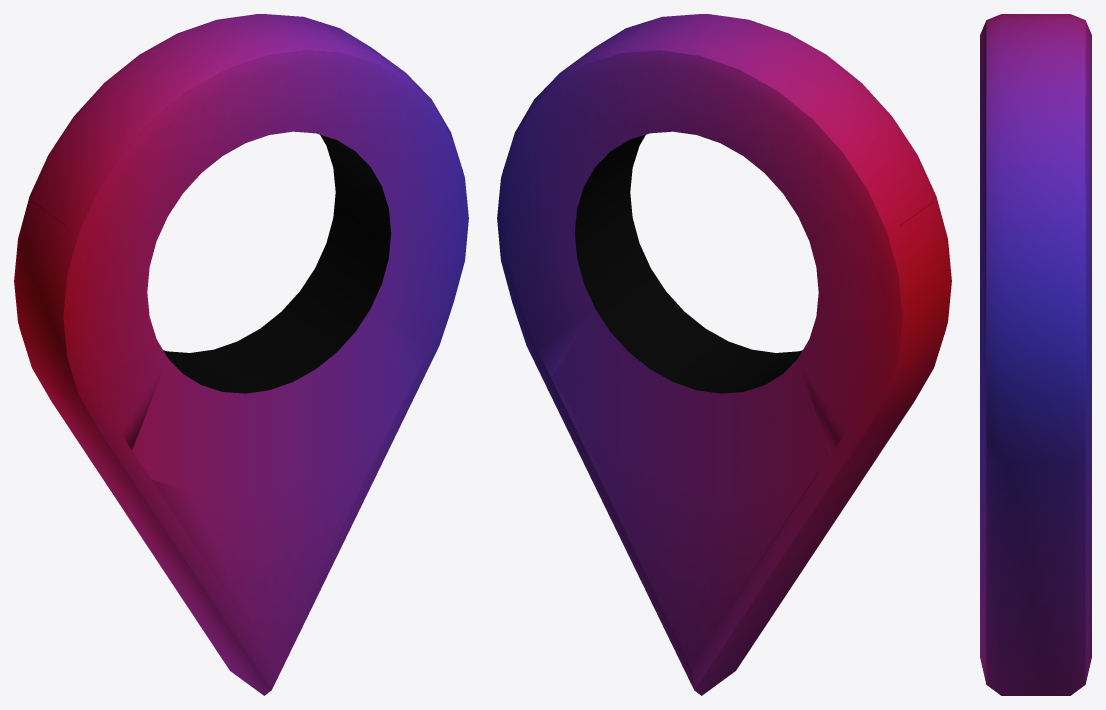
Rendered from noma_pin_prueba.glb.
The picture shows the model from 3 angles, left to right: view 1: azimuth 30°, elevation 25°; view 2: azimuth 150°, elevation 25°; view 3: azimuth 270°, elevation 25°; orthographic projection.
Visible parts, largest first — view 1: icono pin; view 2: icono pin; view 3: icono pin.
Boxes of the visible parts, bbox=[...] form: icono pin: bbox=[14, 14, 468, 695]; icono pin: bbox=[497, 14, 951, 695]; icono pin: bbox=[980, 14, 1091, 695].
Size of the model in its own units: 2.21 by 3.31 by 0.5111.
2 materials, 1 textured.
